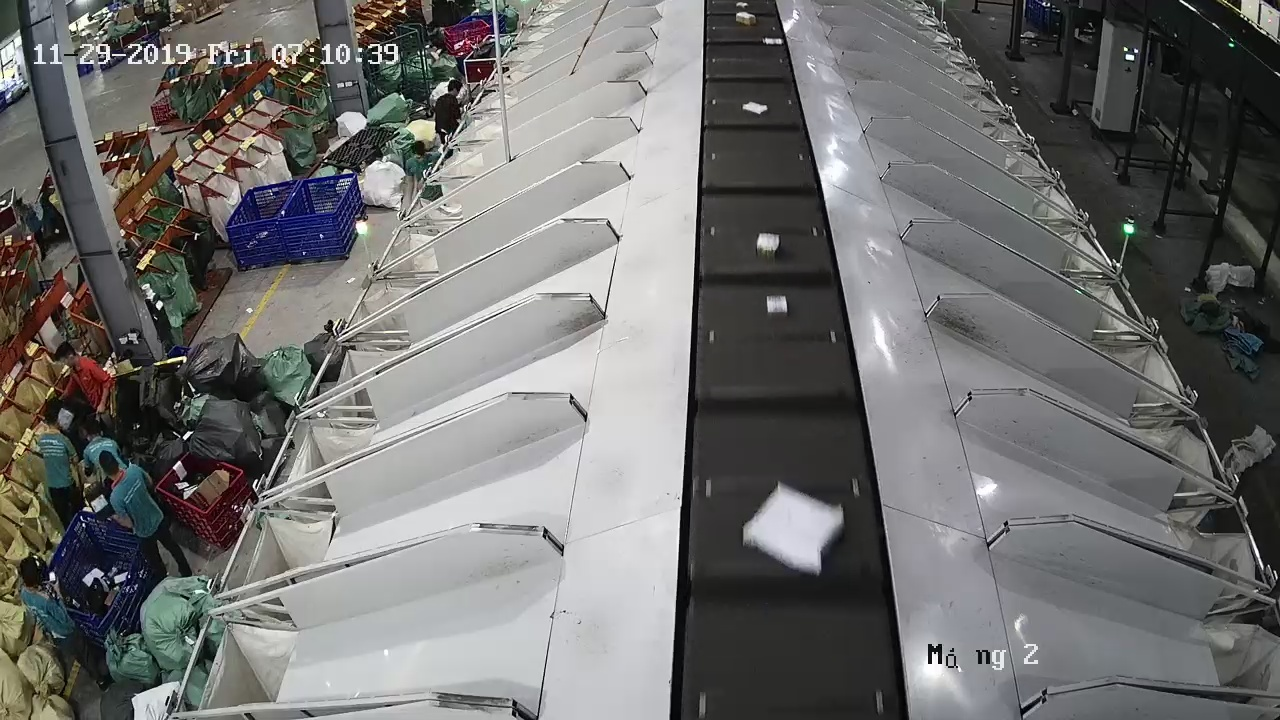parcel: (742, 482, 845, 578), (756, 233, 781, 259), (765, 295, 788, 318)
